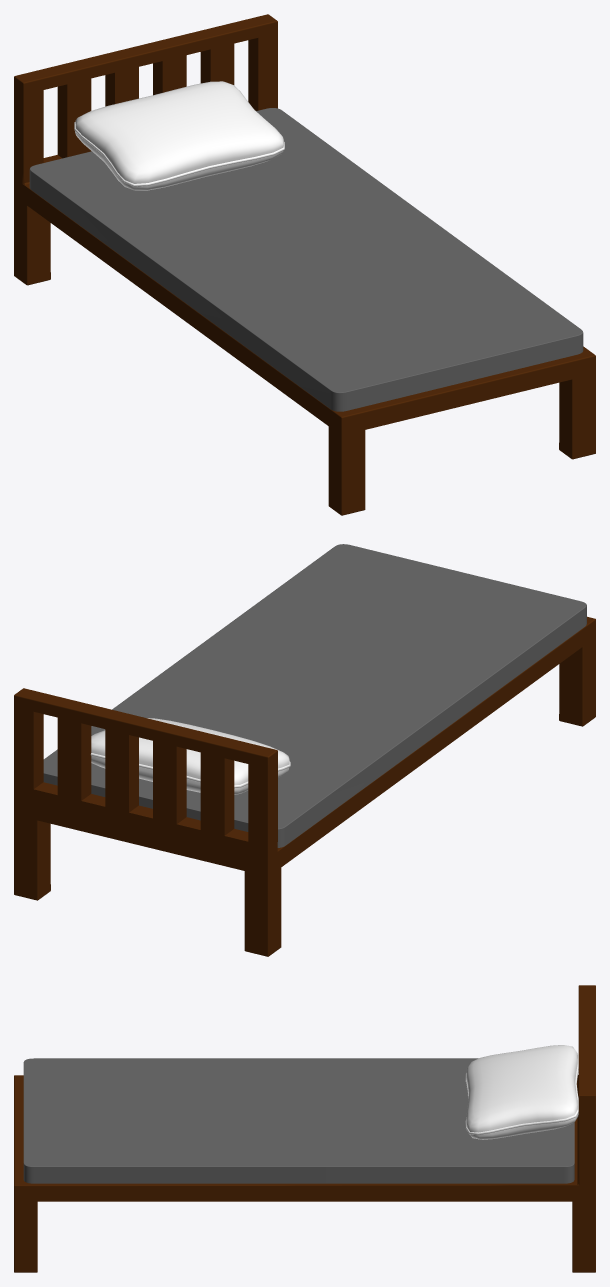
The model's file is Bed.FBX.
The picture shows the model from 3 angles, top to bottom: view 1: azimuth 30°, elevation 25°; view 2: azimuth 150°, elevation 25°; view 3: azimuth 270°, elevation 25°; orthographic projection. The views are drawn at different scales.
Parts seen in each view (by area): view 1: Mattress, Bed Frame, Pillow; view 2: Mattress, Bed Frame, Pillow; view 3: Mattress, Bed Frame, Pillow.
Boxes of the visible parts, bbox=[...] form: Mattress: bbox=[29, 108, 583, 411]; Bed Frame: bbox=[14, 14, 595, 515]; Pillow: bbox=[74, 81, 284, 190]; Mattress: bbox=[43, 544, 586, 847]; Bed Frame: bbox=[14, 616, 595, 956]; Pillow: bbox=[90, 718, 290, 794]; Mattress: bbox=[23, 1058, 574, 1183]; Bed Frame: bbox=[14, 985, 595, 1272]; Pillow: bbox=[465, 1045, 578, 1139].
Size of the model in its own units: 23.65 by 17.76 by 52.7.
